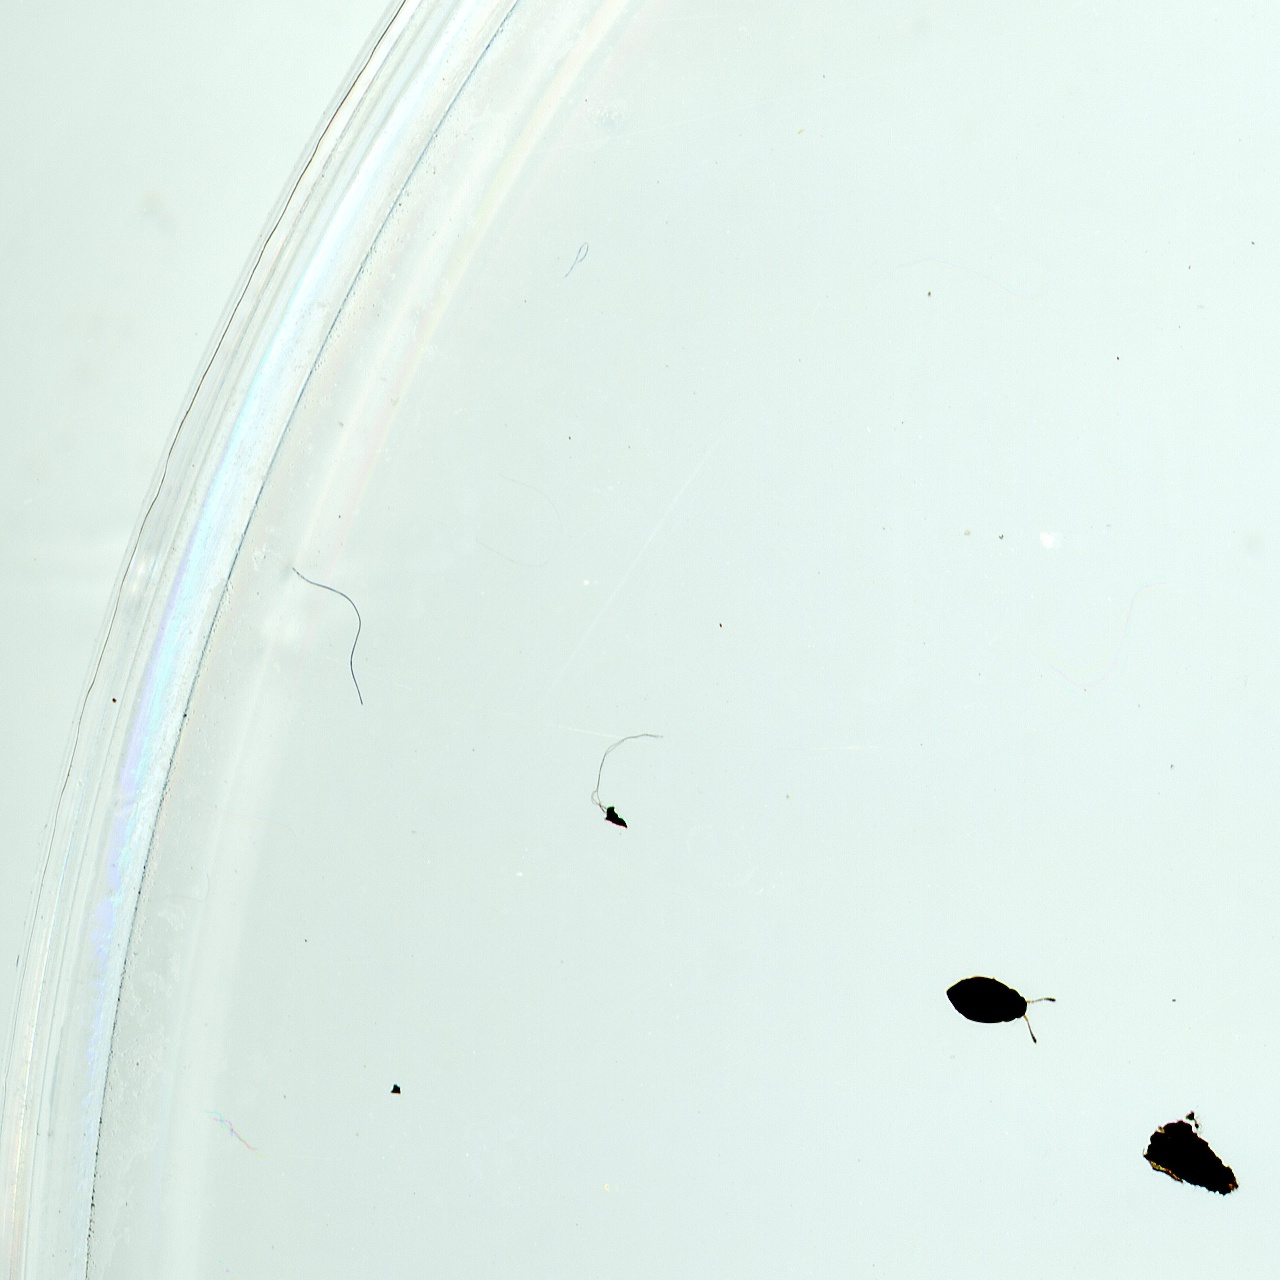arthropod: (939, 964, 1061, 1047)
